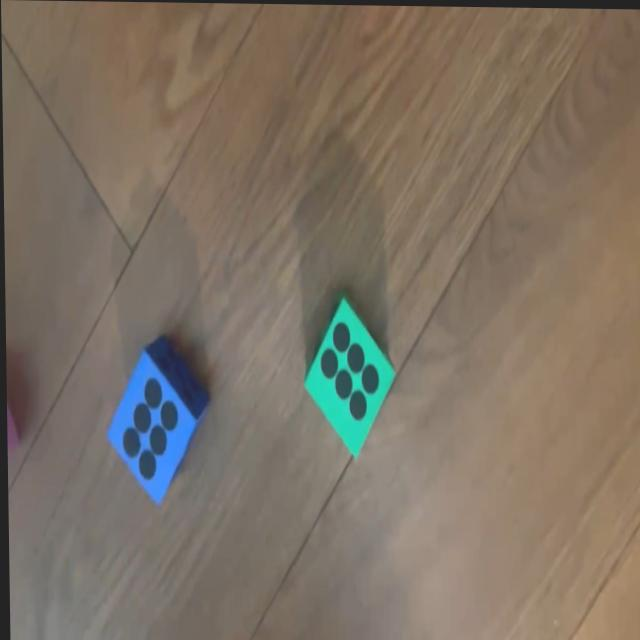blue_block: (107, 330, 209, 505)
